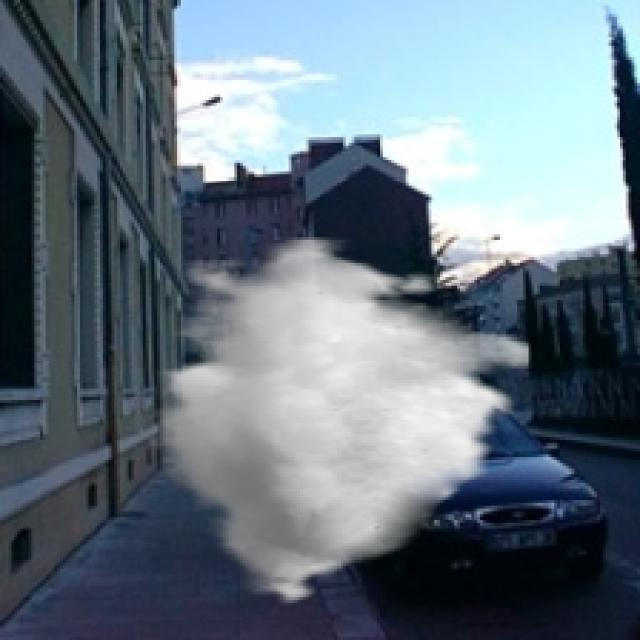Smoke: (148, 237, 532, 612)
